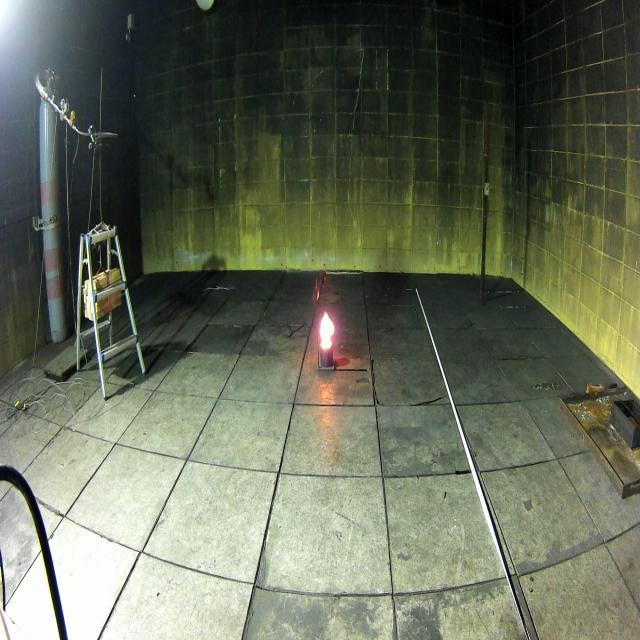Fire: (320, 310, 334, 350)
